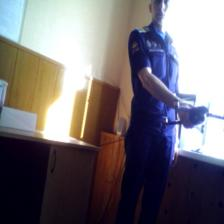drone: (159, 93, 224, 140)
